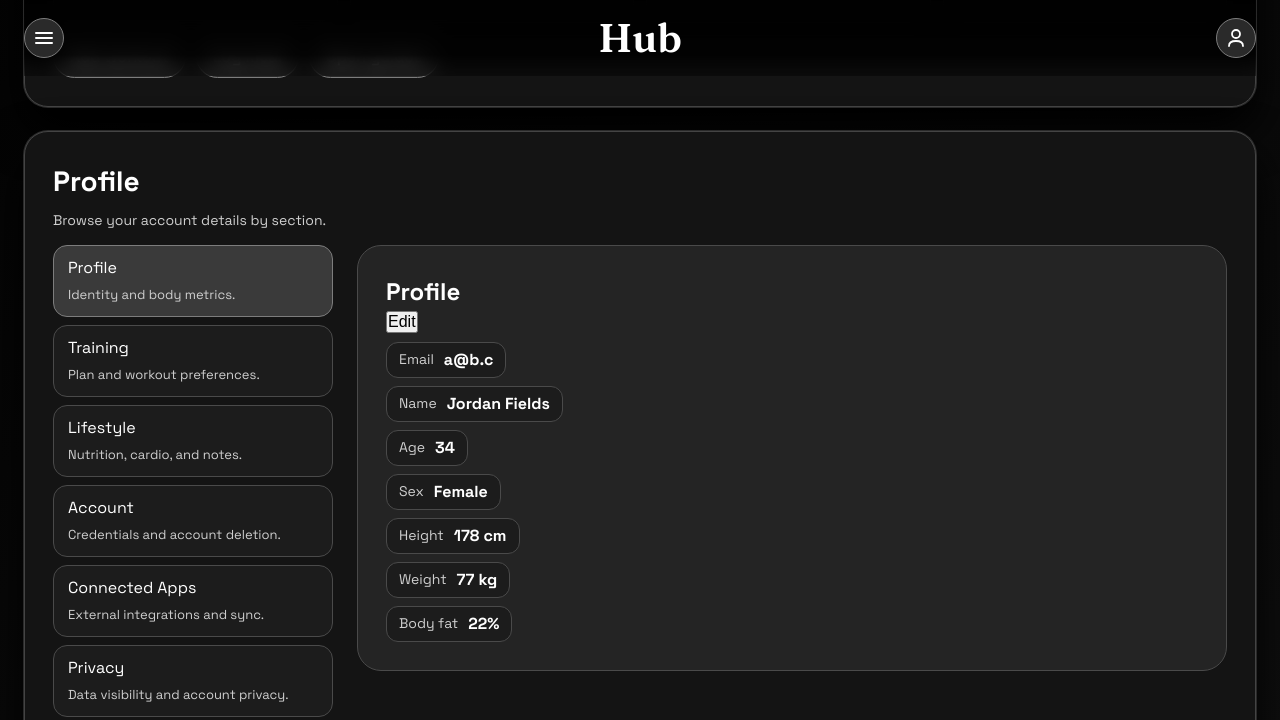
Test: and edits it › opens the form already filled in
The image size is (1280, 720).
(page scrolled)
Click the tab "Training Plan and workout preferences.": (98,347) [53, 325, 333, 397]
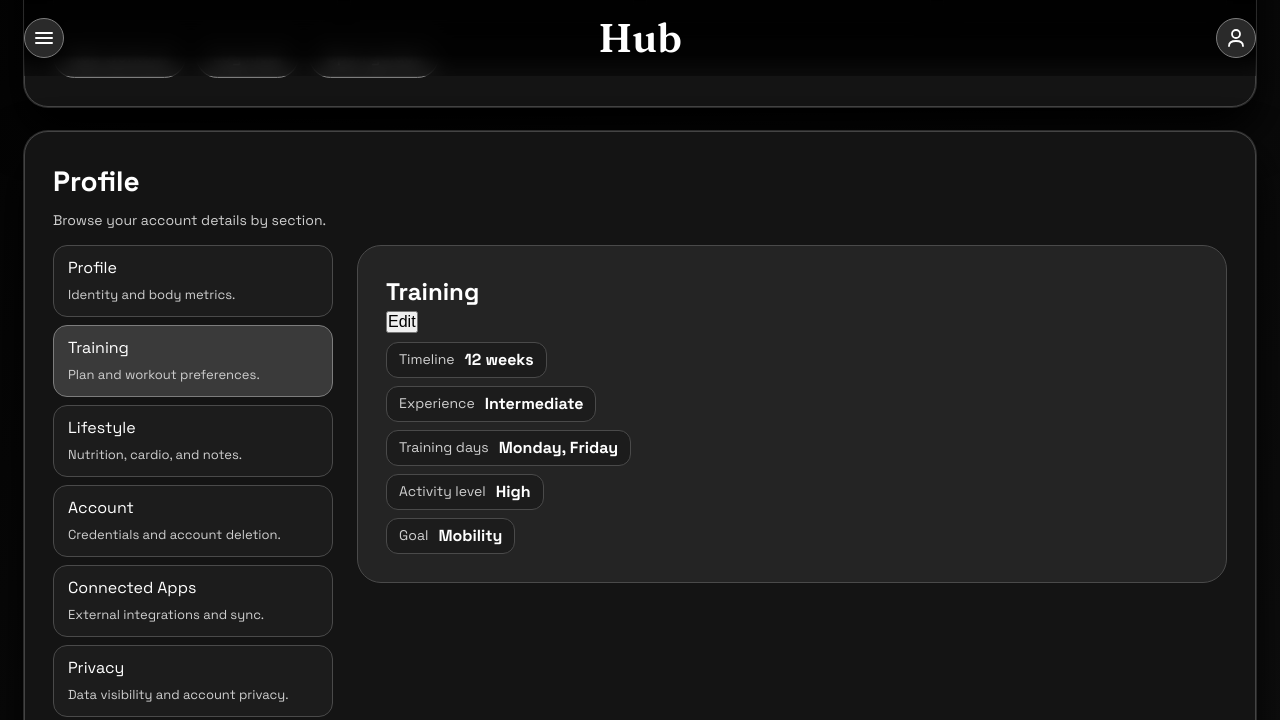
Click the button "Edit": (402,322) [386, 311, 418, 333]
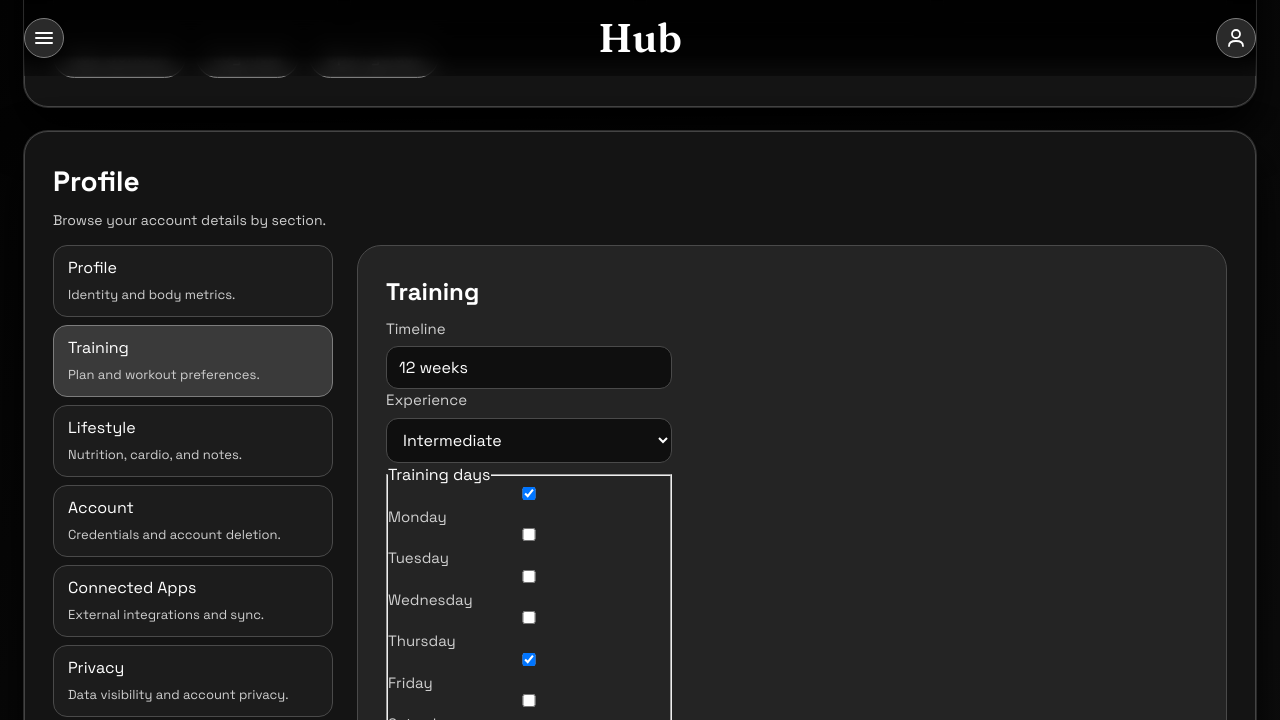
Now the dropdown labelled "Experience" shows "Intermediate", box [386, 418, 672, 463]
